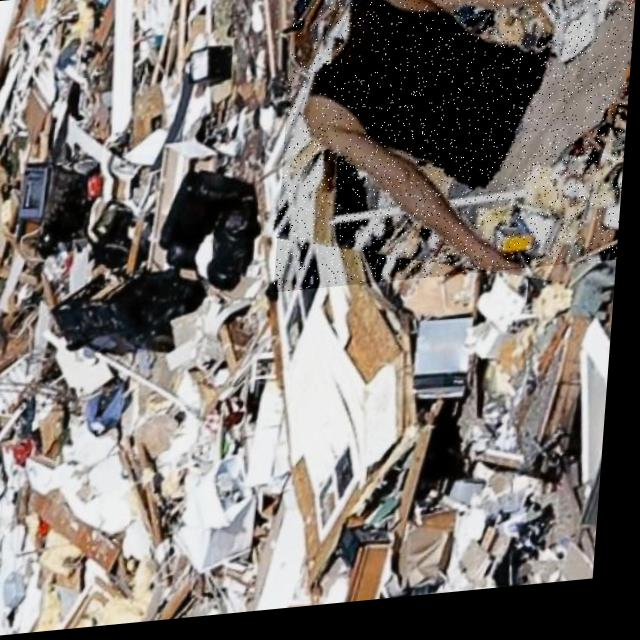Person in Rubble: (278, 0, 640, 297)
